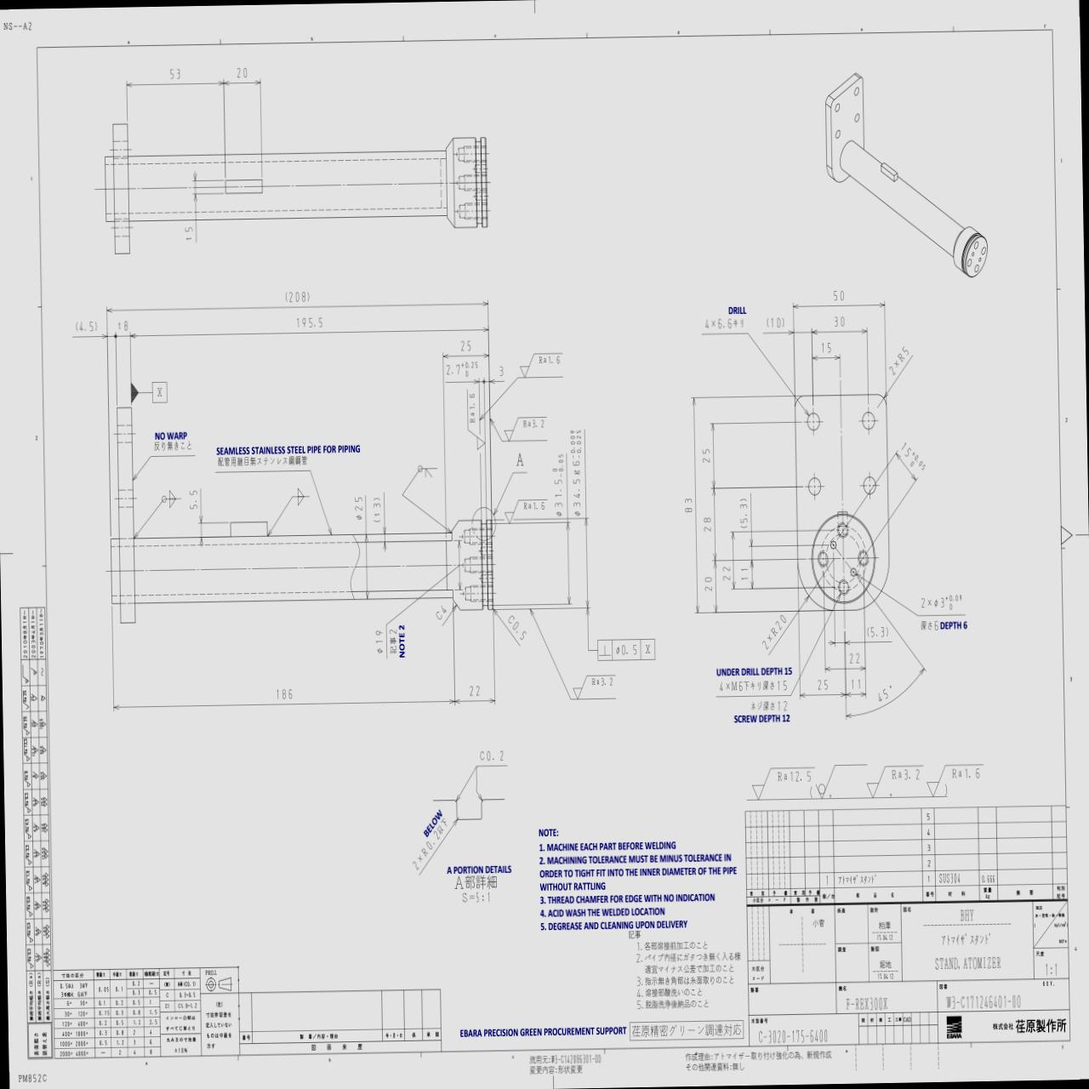basic_dimension: (901, 442, 926, 471), (446, 361, 478, 377), (297, 317, 323, 329), (189, 490, 198, 510), (277, 689, 292, 700), (289, 292, 305, 302), (80, 321, 93, 332), (740, 504, 747, 524), (703, 517, 712, 532), (871, 627, 884, 637), (704, 577, 713, 591), (722, 567, 731, 581), (684, 499, 693, 513), (237, 67, 248, 78), (170, 68, 180, 80), (702, 449, 710, 464), (835, 316, 845, 328), (461, 340, 471, 352), (470, 686, 480, 697), (834, 291, 844, 302), (850, 653, 860, 663), (818, 680, 828, 690), (771, 318, 781, 328), (822, 342, 831, 353), (741, 568, 749, 580), (852, 679, 861, 689), (499, 366, 503, 377)
datum_symbol: (131, 382, 167, 404)
dimension_chamfer_symbol: (509, 615, 527, 641), (479, 750, 504, 761), (435, 605, 447, 621)
dimension_degree_symbol: (877, 685, 892, 703)
dimension_diameter_symbol: (570, 429, 584, 518), (553, 450, 565, 519), (933, 594, 963, 610), (375, 630, 385, 657), (354, 497, 364, 524), (615, 645, 620, 656)
dimension_metric_symbol: (731, 680, 738, 692)
dimension_radius_symbol: (421, 830, 440, 857), (771, 614, 787, 637), (897, 346, 909, 363)
dimension_thickness_symbol: (185, 225, 193, 242), (117, 320, 128, 332), (373, 502, 381, 518)
gdt_frame_symbol: (597, 639, 655, 661)
gdt_perpendicularity_symbol: (599, 645, 611, 656)
surface_finish_symbol: (752, 767, 815, 801), (866, 766, 923, 799), (927, 765, 984, 798), (815, 764, 867, 799), (467, 389, 486, 450), (504, 417, 547, 443), (504, 499, 547, 525), (573, 675, 616, 700), (520, 353, 563, 378)
